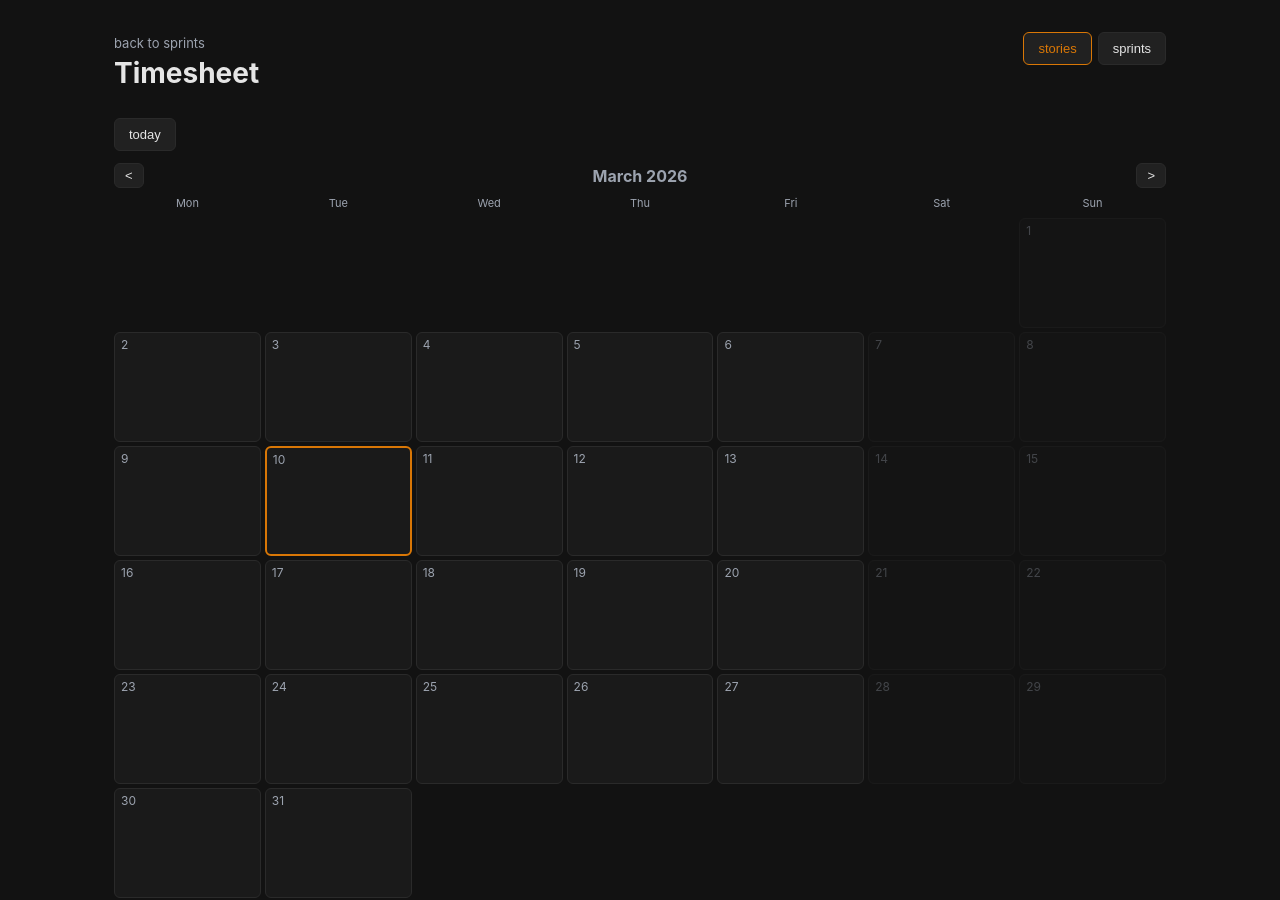
Test: timesheet page › stories mode › navigates months and refetches holidays for the newly visible month
expect the heading "March 2026" is shown: met, box [593,166,687,186]
What coordinates should you click on to do the following:
click the button named "next month"
I would click on:
 (1151, 176)
Its box is [1136,163,1166,188].
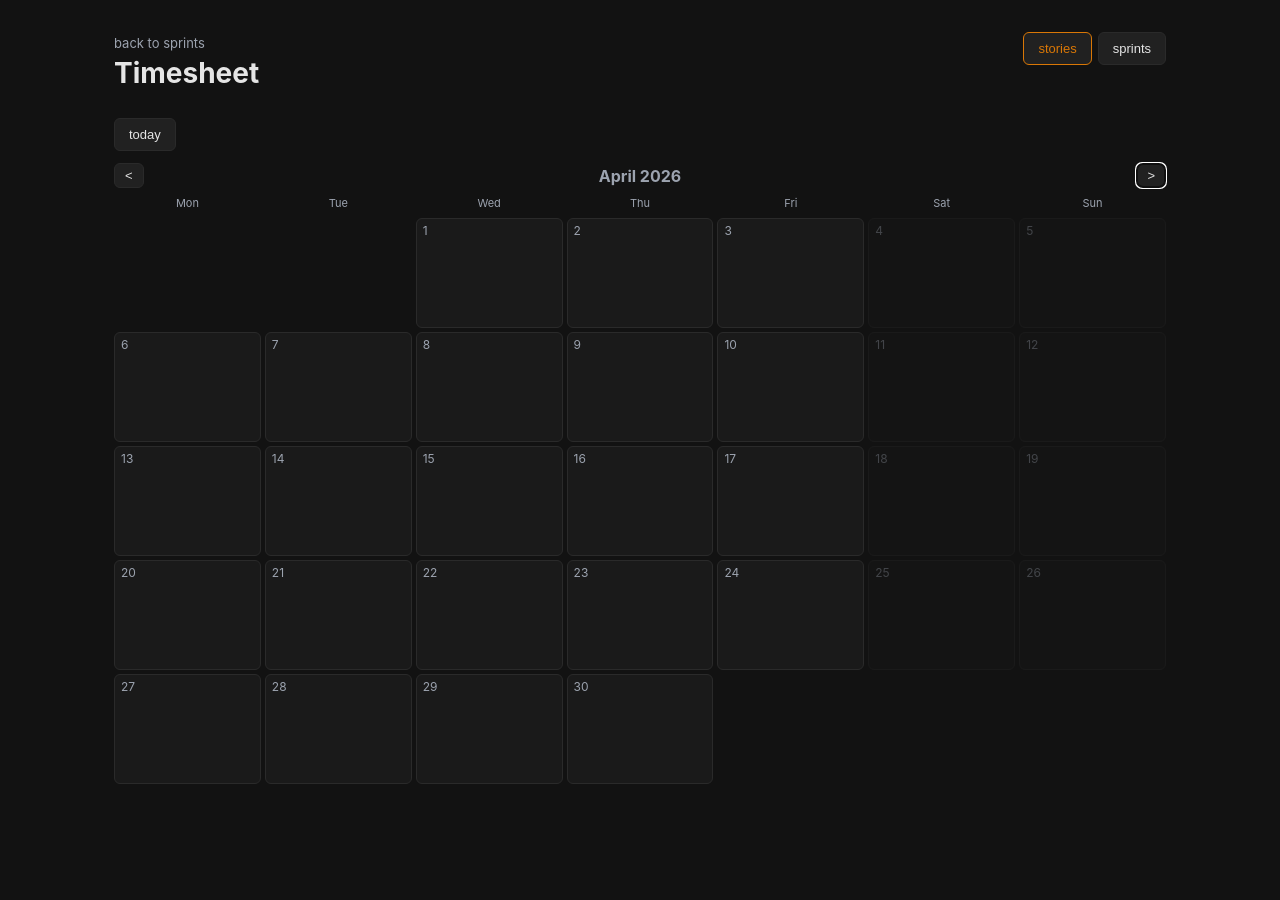
expect the heading "April 2026" is shown: met, box [599,166,681,186]
What coordinates should you click on to do the following:
click the button named "previous month"
I would click on:
 (129, 176)
Its box is [114,163,144,188].
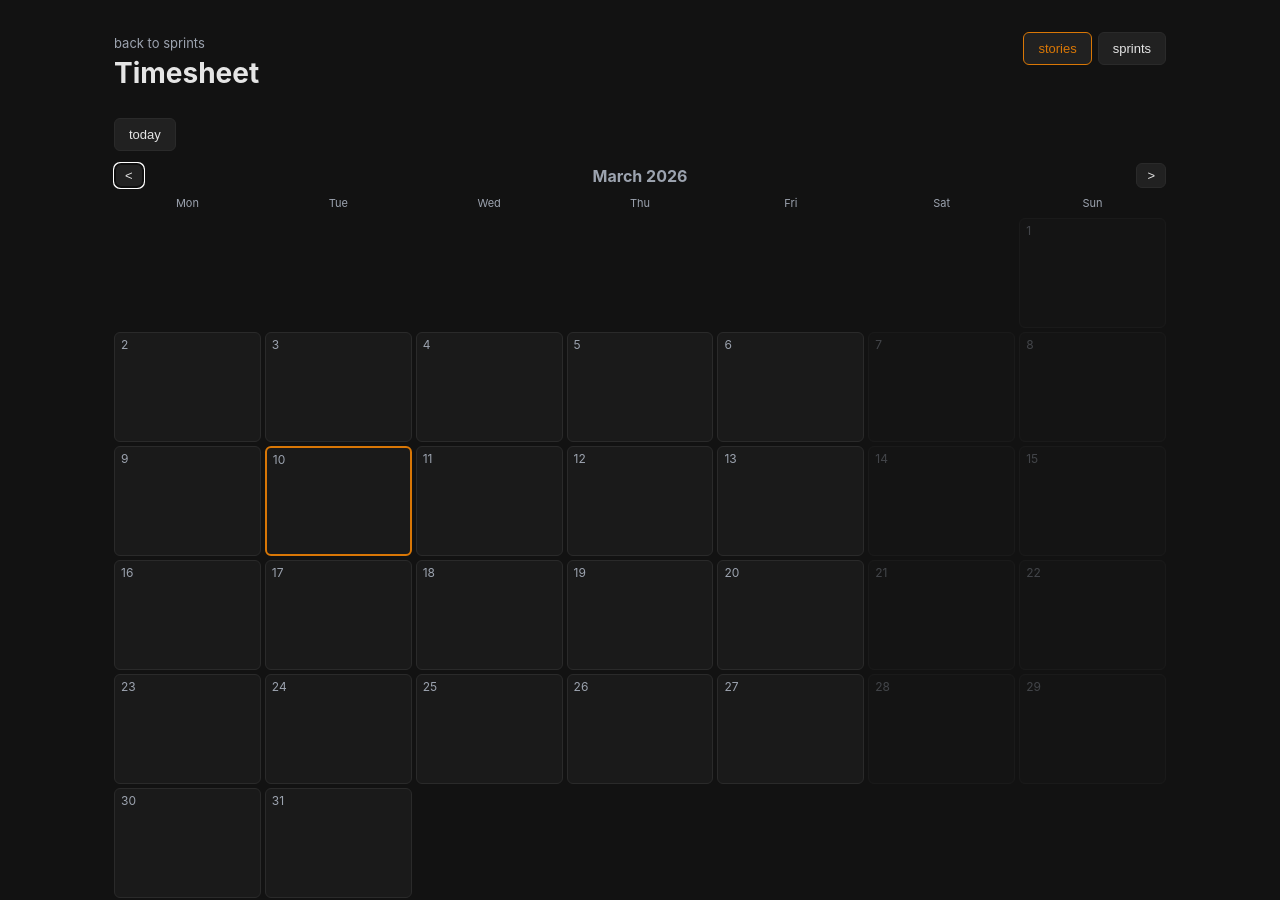
What coordinates should you click on to do the following:
click the button named "previous month"
I would click on:
 (129, 176)
Its box is [114,163,144,188].
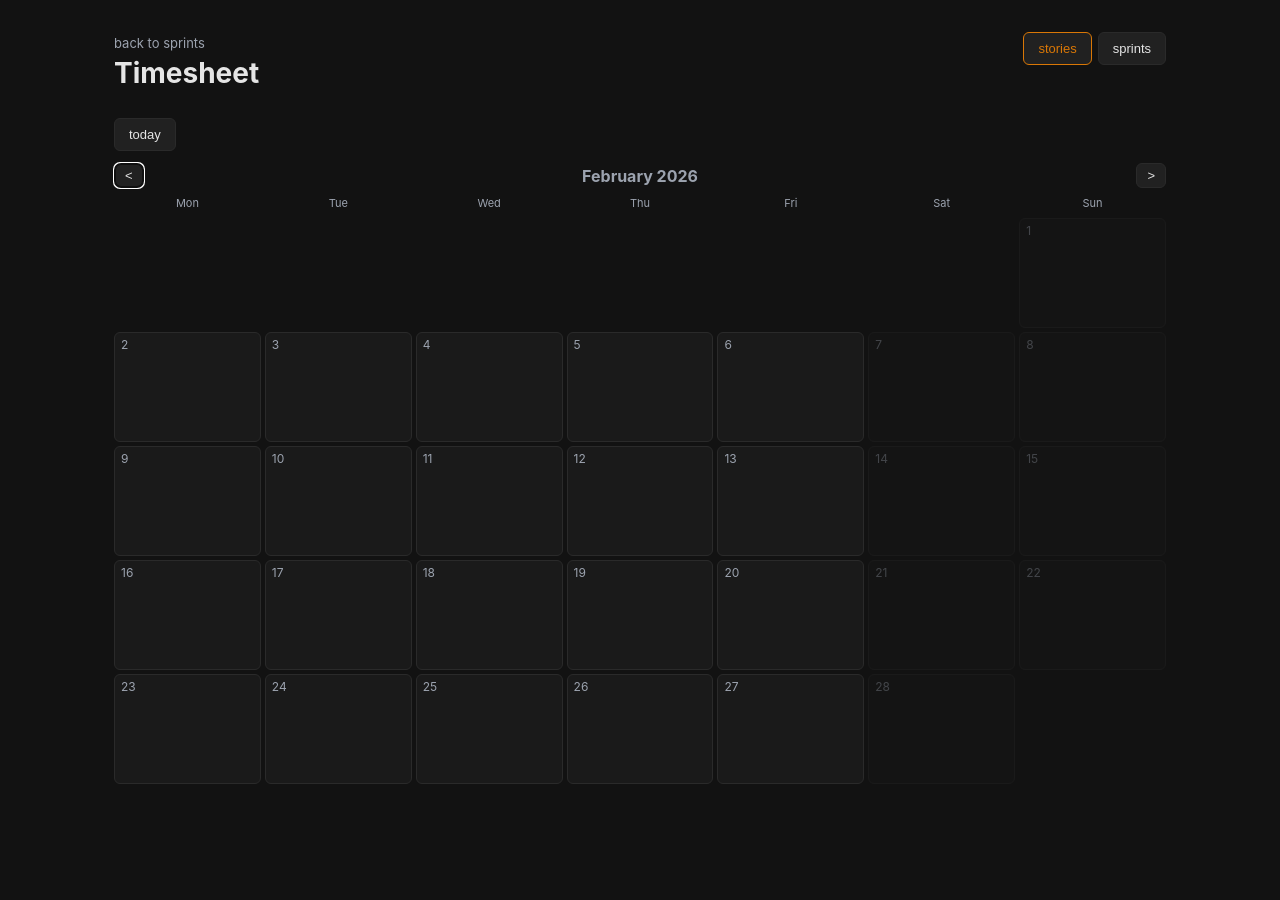
expect the heading "February 2026" is shown: met, box [582,166,698,186]
